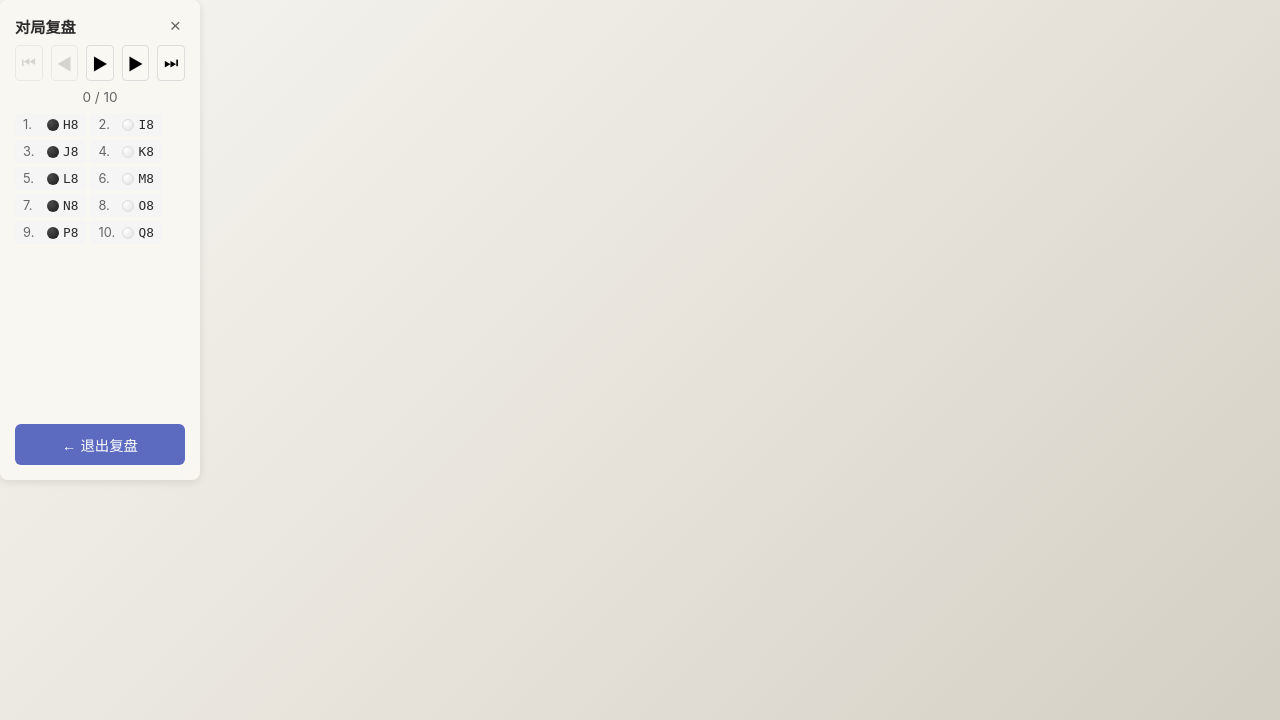
Test case: ReplayPanel › auto play › should start auto play on play button click
What coordinates should you click on to do the following:
click the 1st button "▶"
I would click on:
 (100, 63)
Its box is x1=86 y1=45 x2=114 y2=81.
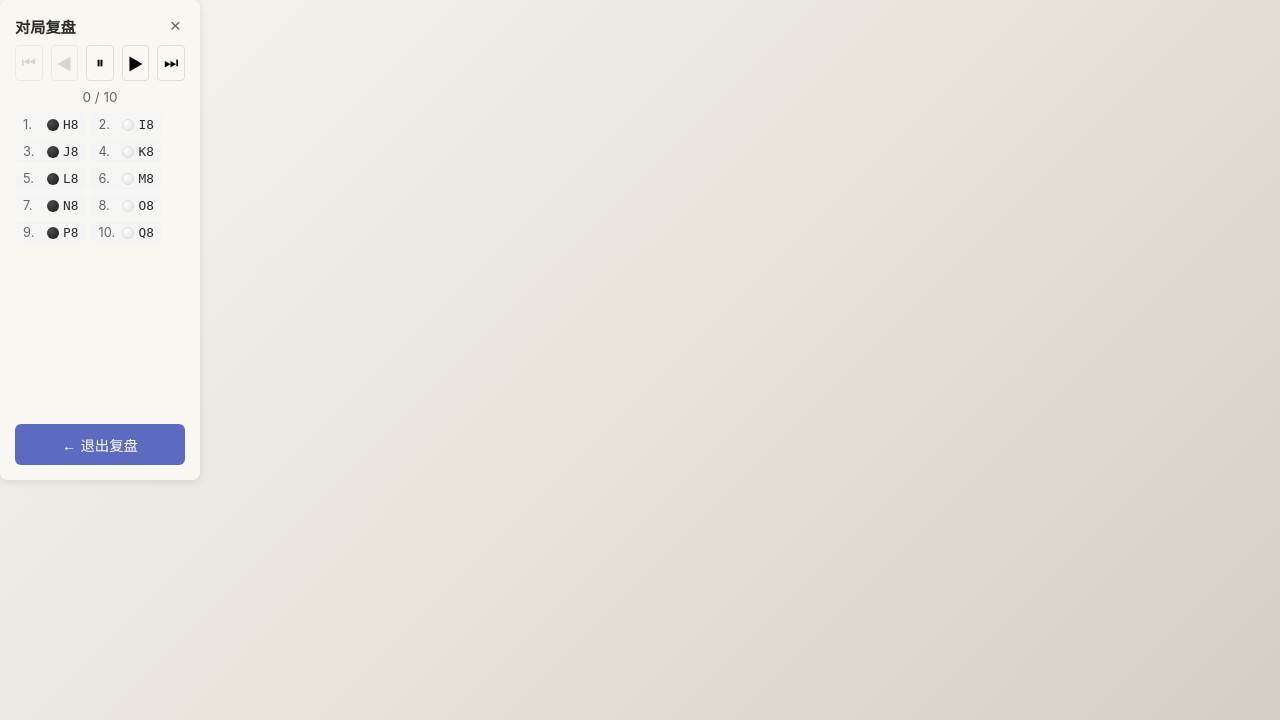
Now the button "⏸" is shown, box x1=86 y1=45 x2=114 y2=81
